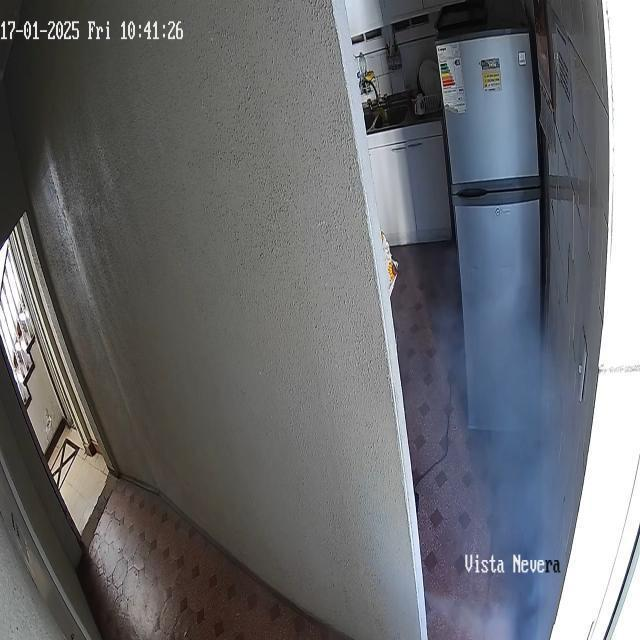fire: (419, 218, 586, 640)
